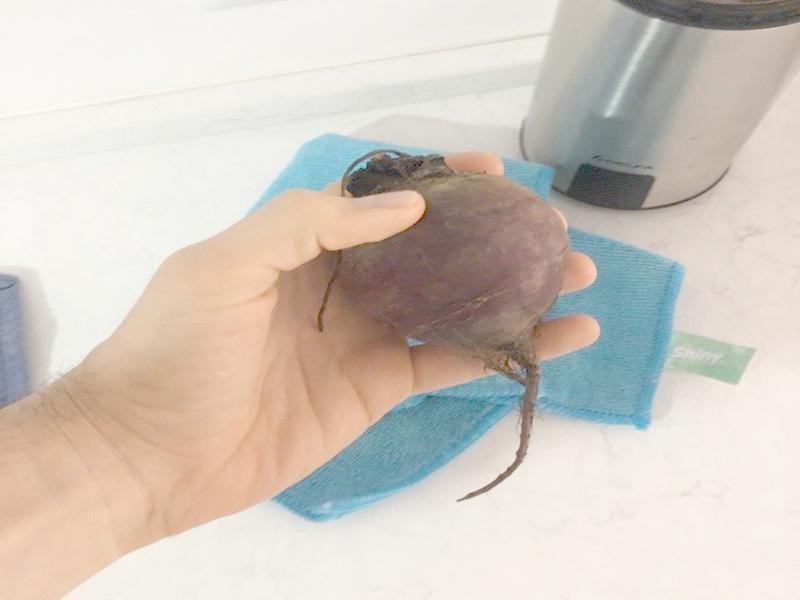Beet: (319, 150, 569, 502)
